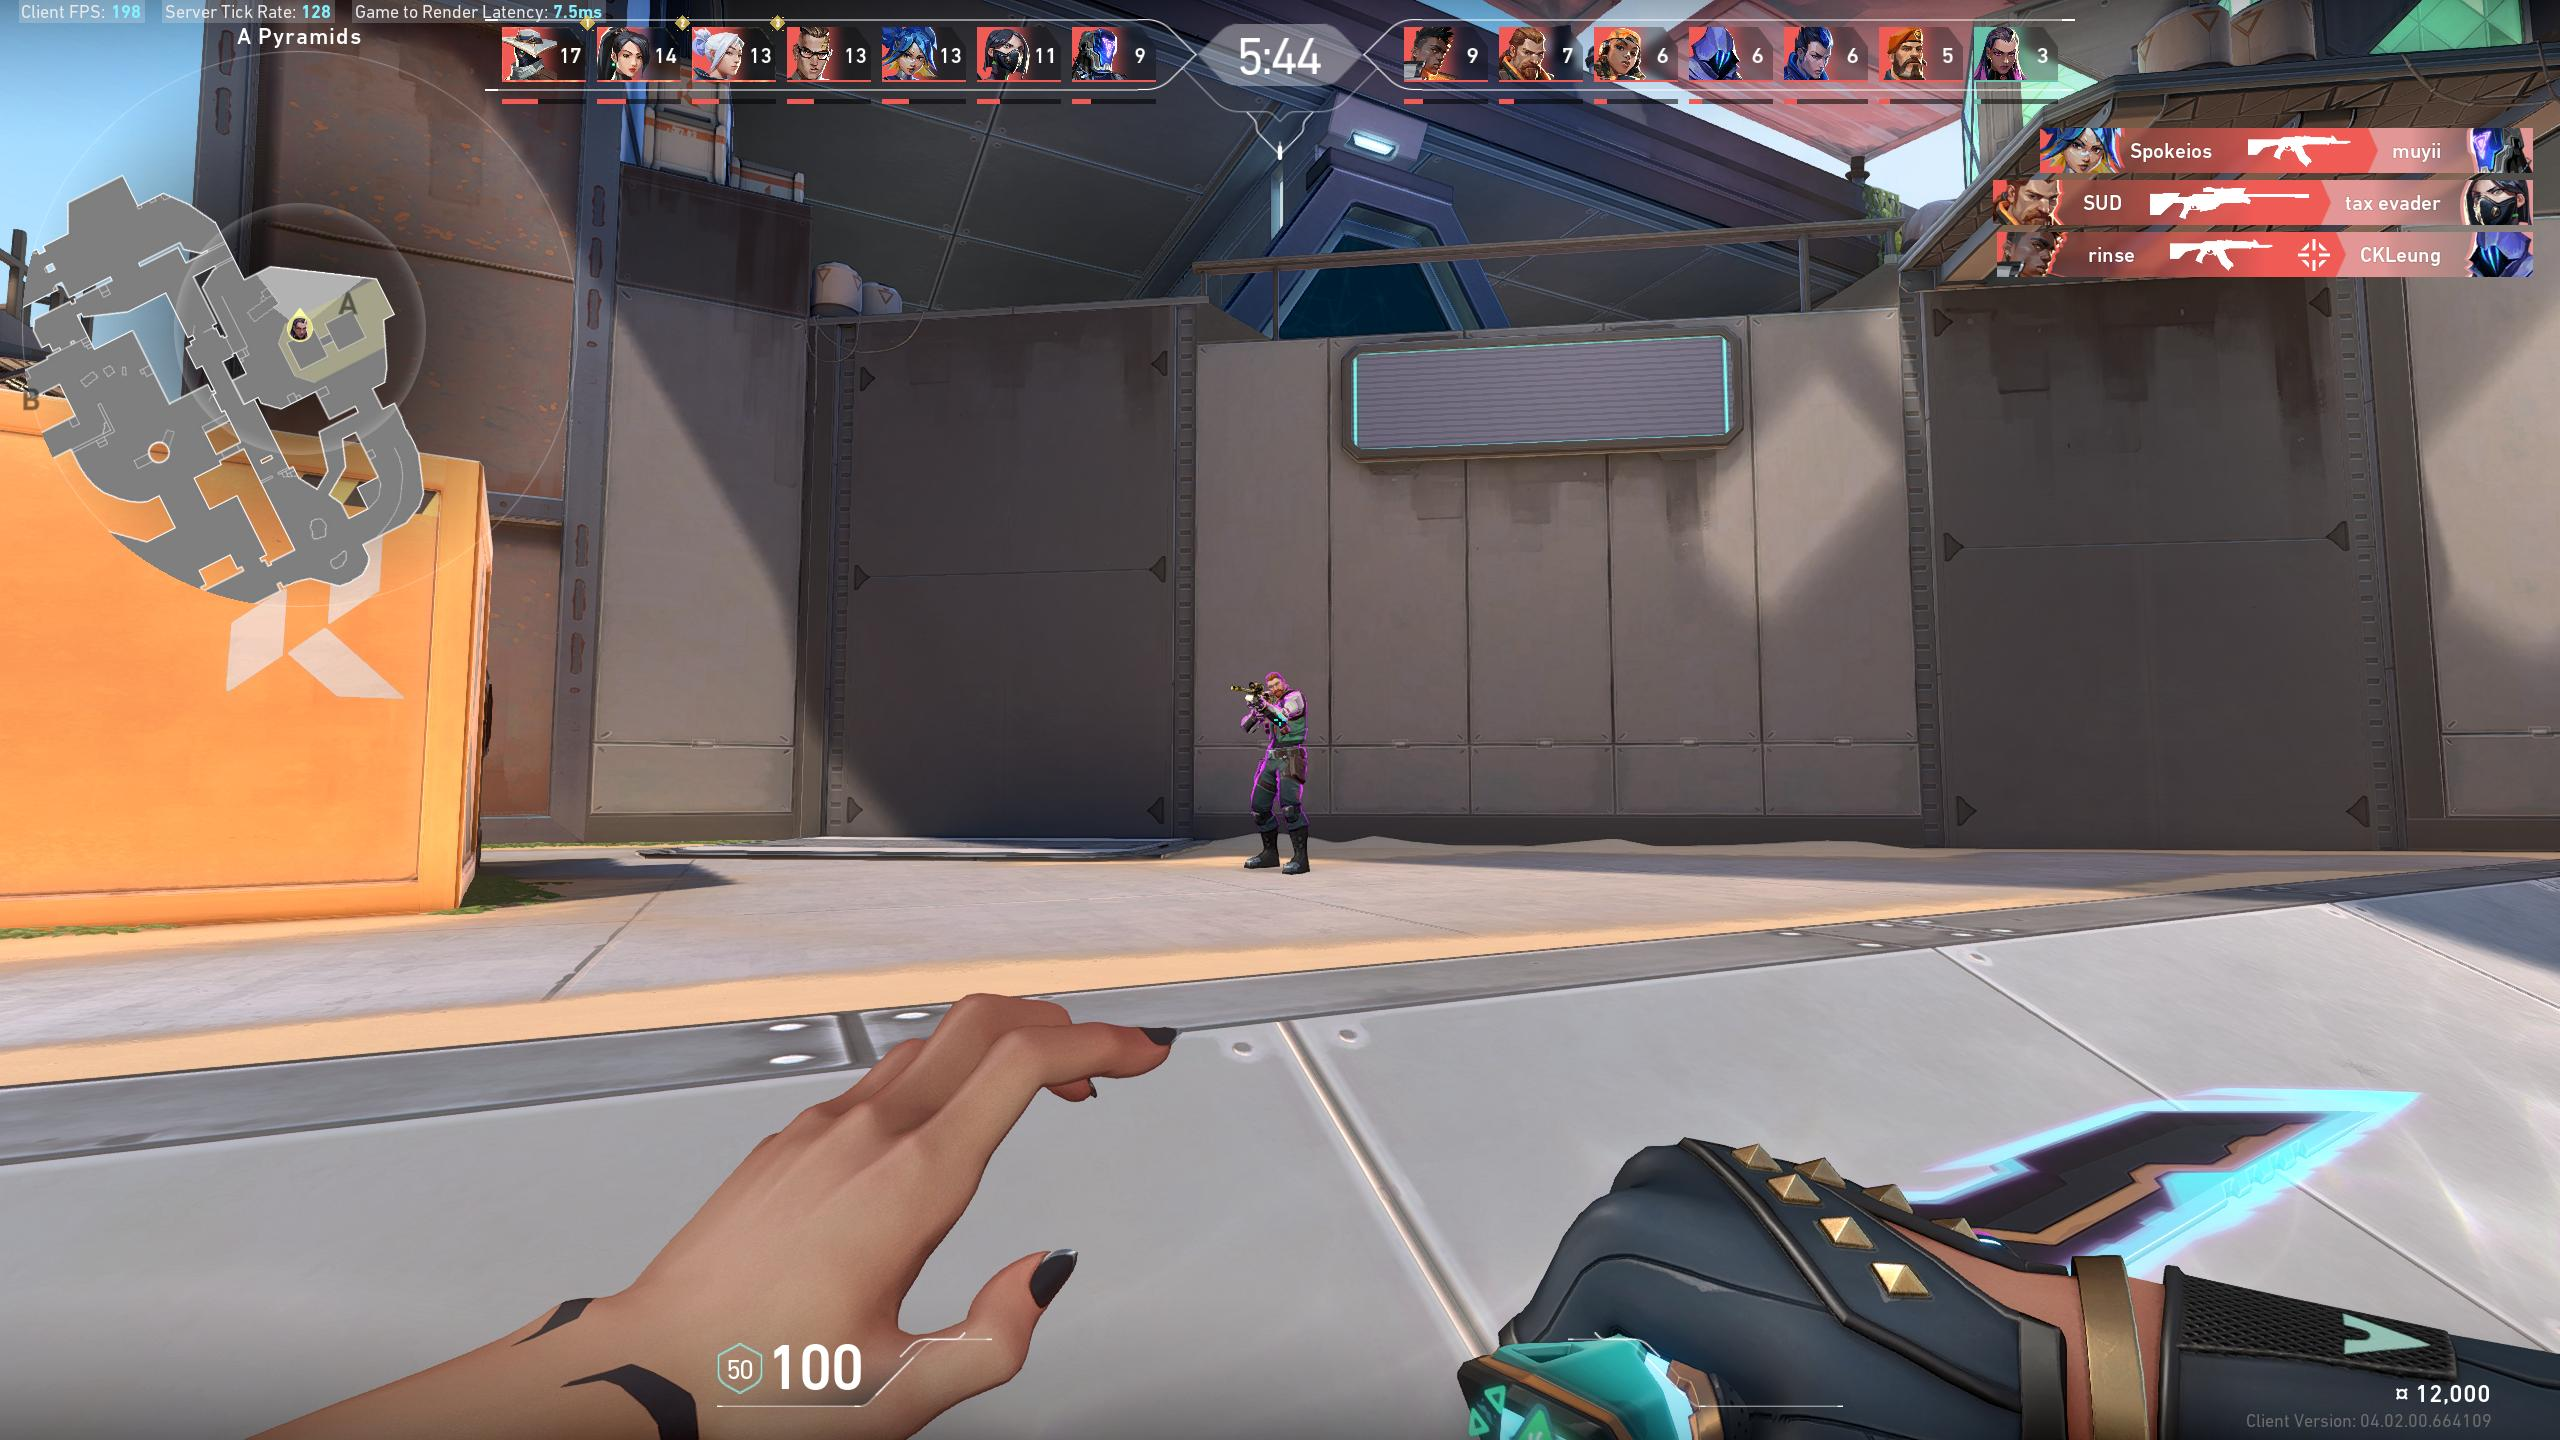enemyBody: (1268, 696, 1299, 749)
enemyHead: (1269, 679, 1284, 693)
